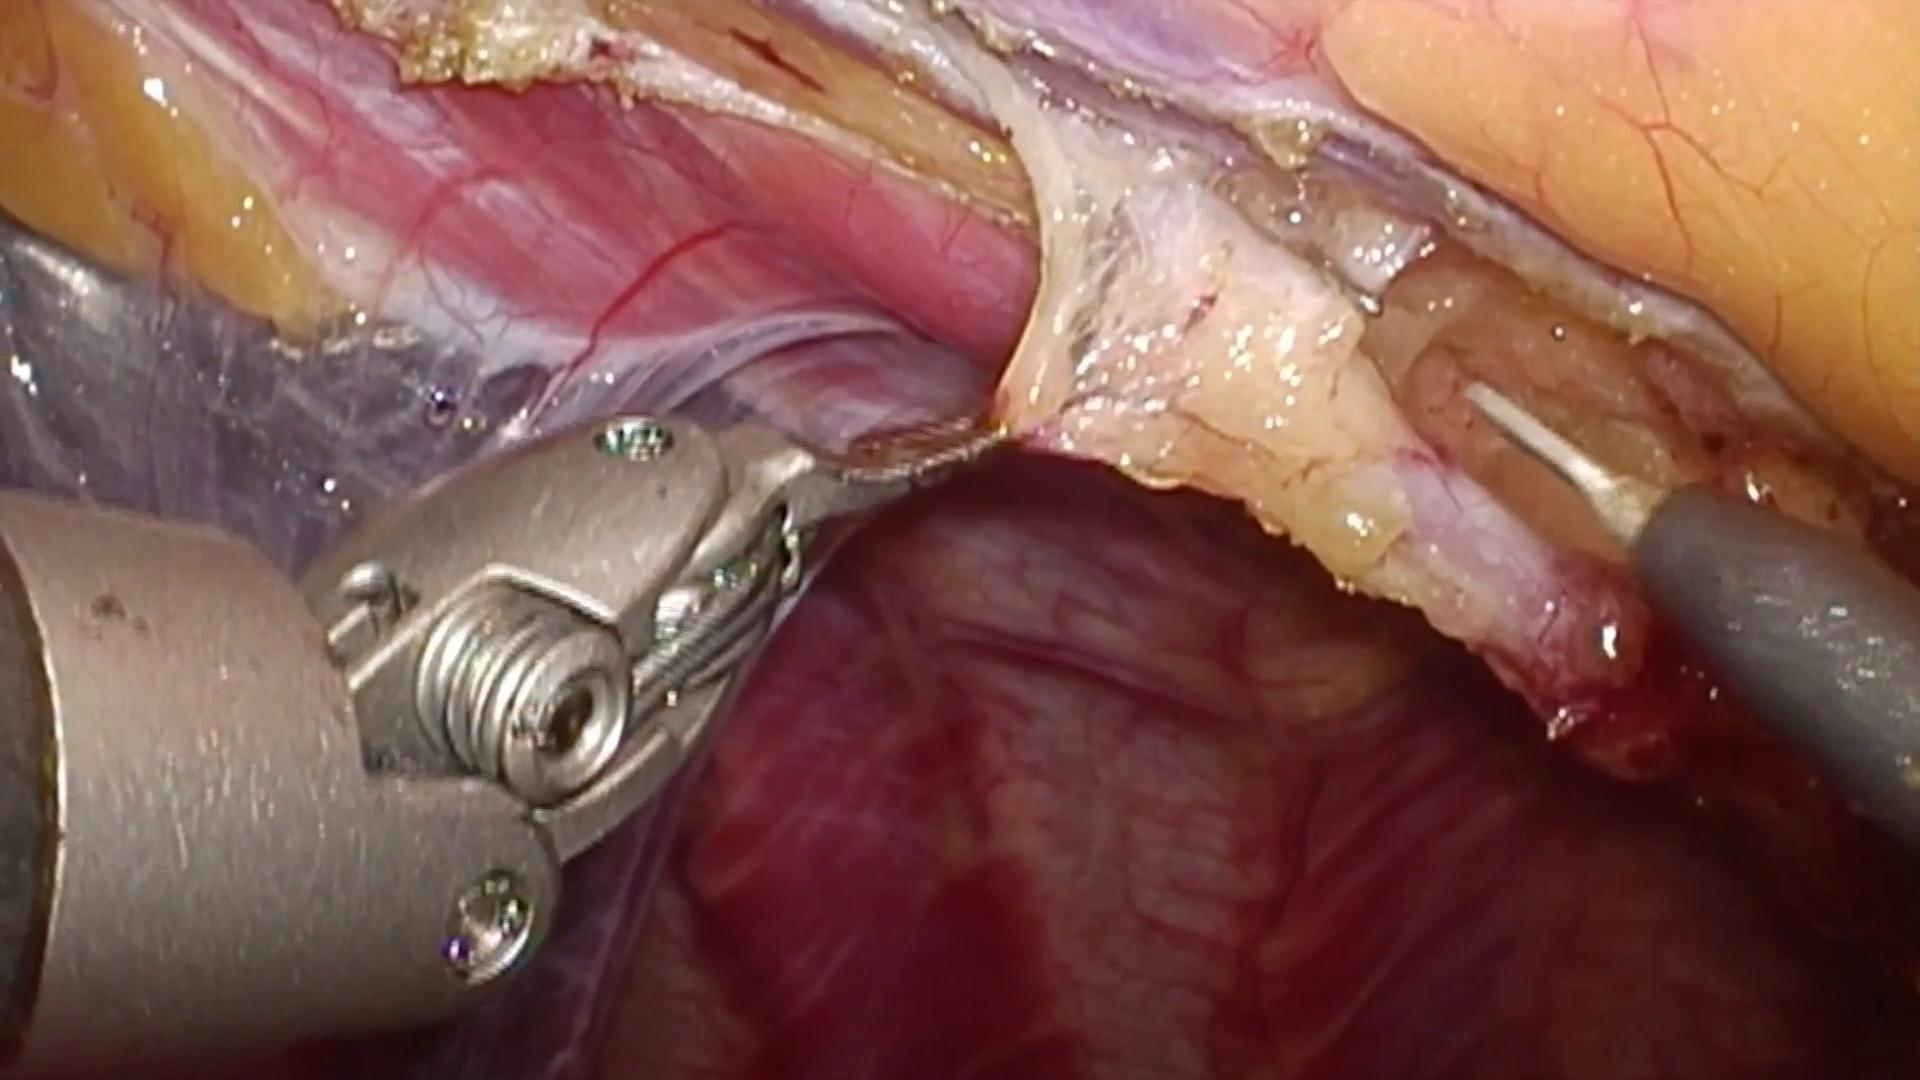Cautery_Spatula: (1466, 364, 1920, 873)
Debakey: (712, 401, 1010, 564)
